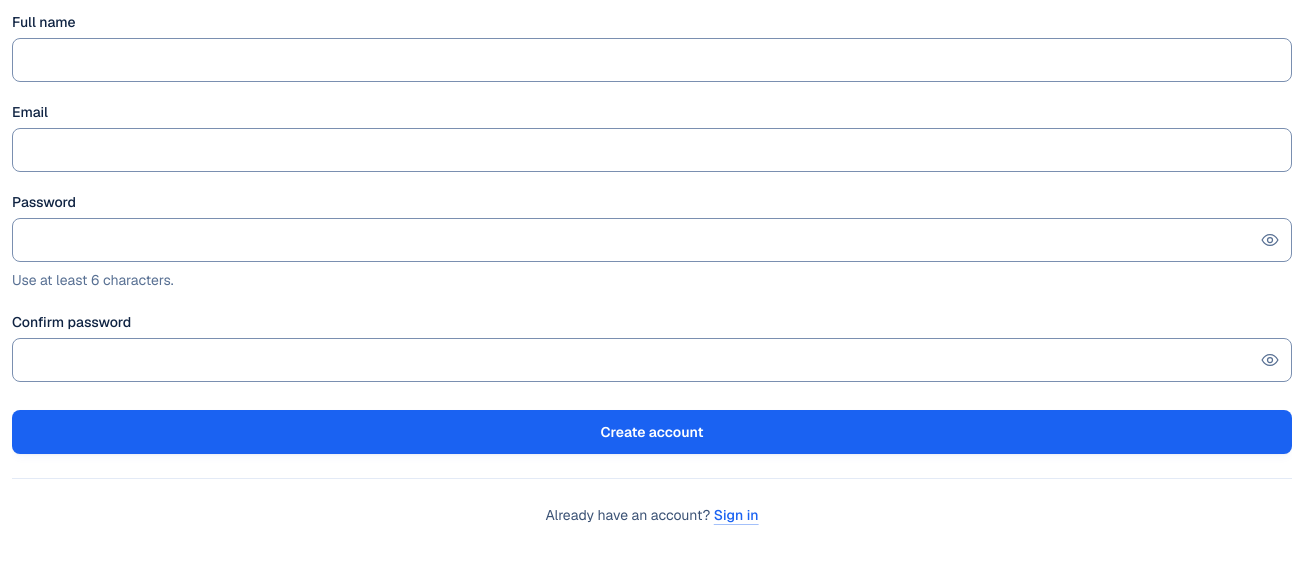
Test case: RegisterForm › shows field errors returned by the action
What coordinates should you click on to do the following:
click the button "Create account"
I would click on:
 (652, 432)
Its box is x1=12 y1=410 x2=1292 y2=454.
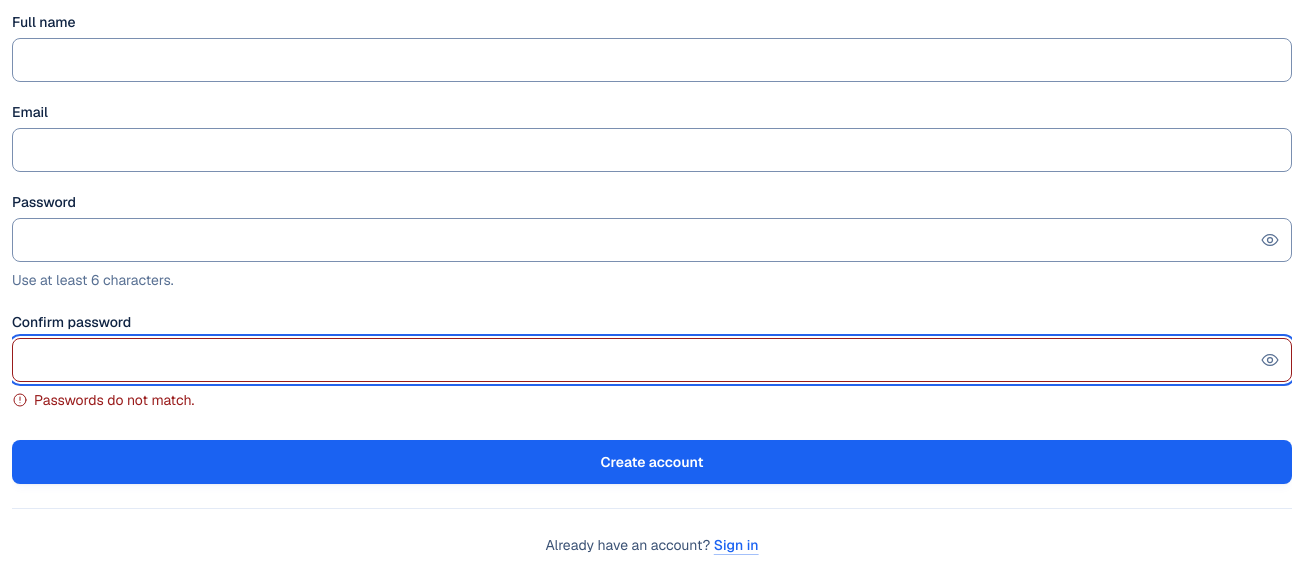
Now the text "Passwords do not match." is shown, box x1=34 y1=388 x2=194 y2=412
